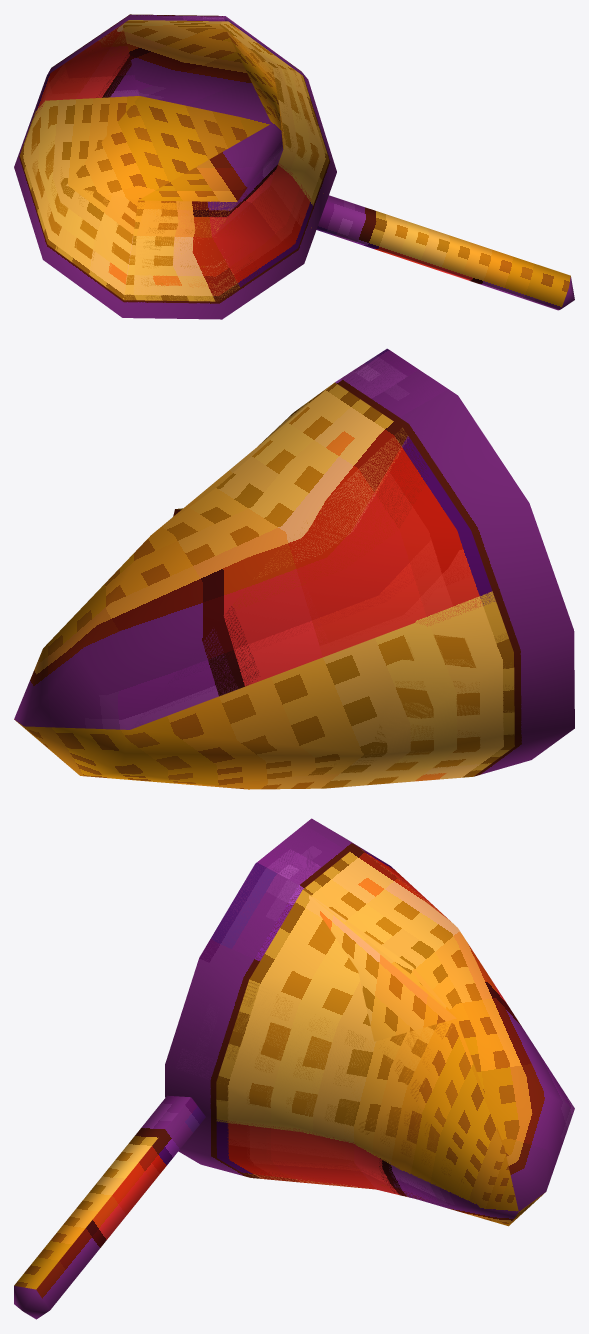
Rendered from fg_G_net.dae.
3 views of the same model, one above another, from view 1: azimuth 30°, elevation 25°; view 2: azimuth 150°, elevation 25°; view 3: azimuth 270°, elevation 25° (orthographic). The views are drawn at different scales.
Parts seen in each view (by area): view 1: fg_G_net; view 2: fg_G_net; view 3: fg_G_net.
Boxes of the visible parts, <box> form: fg_G_net: <box>14,14,574,319</box>; fg_G_net: <box>14,348,574,789</box>; fg_G_net: <box>14,818,574,1319</box>.
Size of the model in its own units: 25.71 by 16.25 by 25.44.
Materials: 1 (1 with a texture image).
